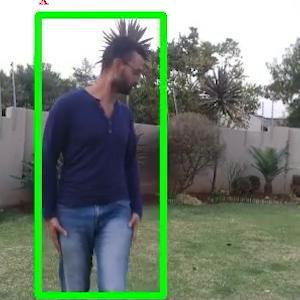follow: (39, 23, 148, 299)
